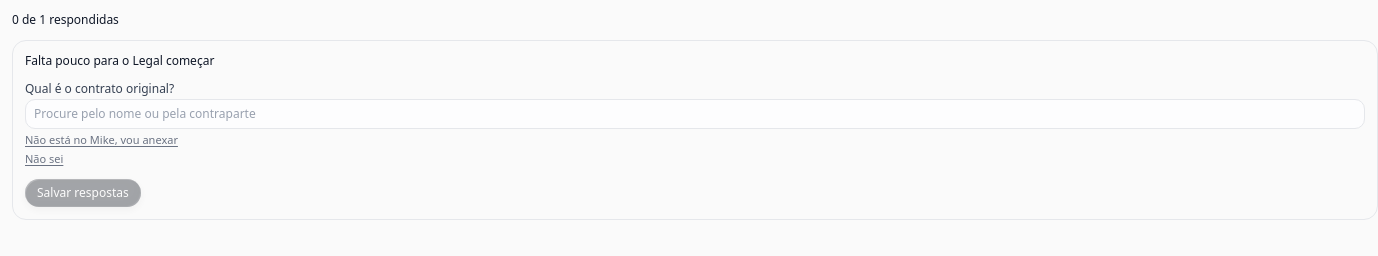
Contrato original › keeps typing possible when the search fails
Type "alf" into the dropdown at (695, 114), box [25,99,1365,129]
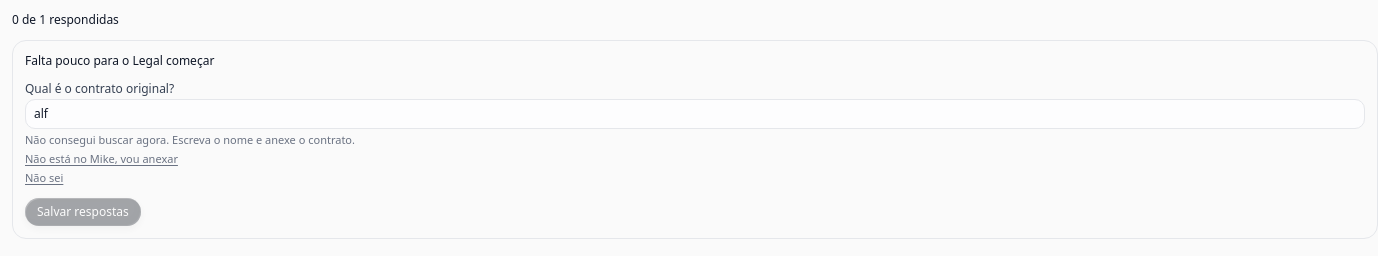
Expected: the button "Não está no Mike, vou anexar" is shown, [25,152,178,166]
Result: the message shows "Não consegui buscar agora" at [25,132,355,147]
